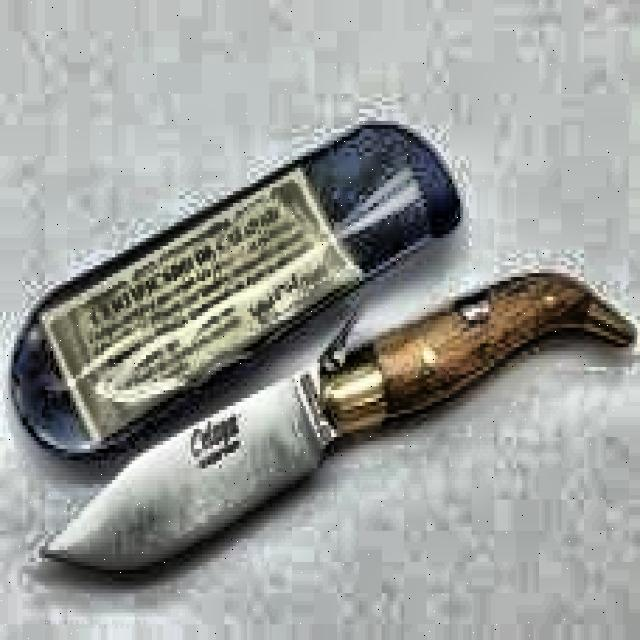knife: (40, 272, 632, 572)
